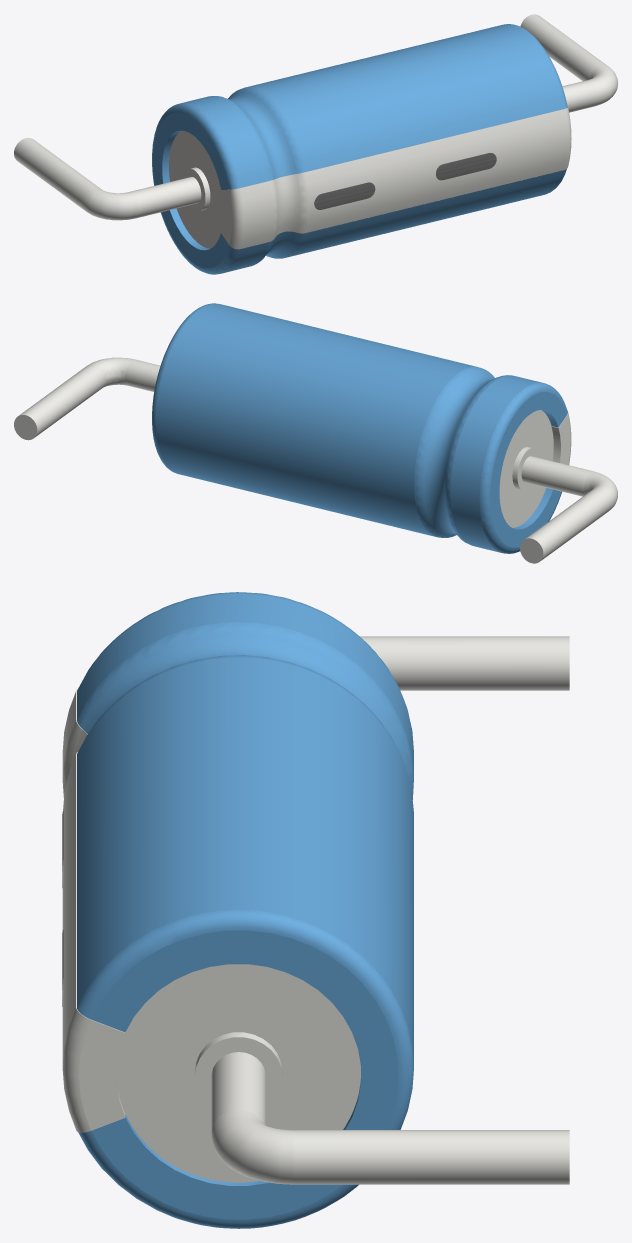
File: CP_Axial_L10.0mm_D4.5mm_P15.00mm_Horizontal.glb
The picture shows the model from 3 angles, top to bottom: view 1: azimuth 30°, elevation 25°; view 2: azimuth 150°, elevation 25°; view 3: azimuth 270°, elevation 25°; orthographic projection. The views are drawn at different scales.
Parts seen in each view (by area): view 1: Shape_IndexedFaceSet.009, Shape_IndexedFaceSet.049, Shape_IndexedFaceSet, Shape_IndexedFaceSet.064, Shape_IndexedFaceSet.006, Shape_IndexedFaceSet.053, Shape_IndexedFaceSet.005, Shape_IndexedFaceSet.051, Shape_IndexedFaceSet.055, Shape_IndexedFaceSet.003, Shape_IndexedFaceSet.035, Shape_IndexedFaceSet.052 (+11 smaller); view 2: Shape_IndexedFaceSet.009, Shape_IndexedFaceSet, Shape_IndexedFaceSet.005, Shape_IndexedFaceSet.064, Shape_IndexedFaceSet.006, Shape_IndexedFaceSet.053, Shape_IndexedFaceSet.003, Shape_IndexedFaceSet.055, Shape_IndexedFaceSet.051, Shape_IndexedFaceSet.007, Shape_IndexedFaceSet.002, Shape_IndexedFaceSet.011 (+6 smaller); view 3: Shape_IndexedFaceSet.009, Shape_IndexedFaceSet.059, Shape_IndexedFaceSet.012, Shape_IndexedFaceSet.055, Shape_IndexedFaceSet.011, Shape_IndexedFaceSet.051, Shape_IndexedFaceSet, Shape_IndexedFaceSet.005, Shape_IndexedFaceSet.002, Shape_IndexedFaceSet.054, Shape_IndexedFaceSet.046, Shape_IndexedFaceSet.049 (+4 smaller).
Boxes of the visible parts, x1,y1,x2,y2 form: Shape_IndexedFaceSet.009: (245, 24, 563, 257); Shape_IndexedFaceSet.049: (305, 109, 567, 232); Shape_IndexedFaceSet: (180, 96, 269, 273); Shape_IndexedFaceSet.064: (169, 130, 222, 248); Shape_IndexedFaceSet.006: (153, 112, 229, 268); Shape_IndexedFaceSet.053: (130, 80, 597, 218); Shape_IndexedFaceSet.005: (228, 92, 296, 257); Shape_IndexedFaceSet.051: (14, 138, 101, 211); Shape_IndexedFaceSet.055: (520, 14, 607, 80); Shape_IndexedFaceSet.003: (152, 103, 239, 274); Shape_IndexedFaceSet.035: (240, 181, 272, 248); Shape_IndexedFaceSet.052: (83, 188, 138, 220); Shape_IndexedFaceSet.009: (155, 303, 475, 536); Shape_IndexedFaceSet: (450, 375, 542, 552); Shape_IndexedFaceSet.005: (422, 371, 494, 536); Shape_IndexedFaceSet.064: (499, 410, 553, 527); Shape_IndexedFaceSet.006: (490, 392, 566, 547); Shape_IndexedFaceSet.053: (125, 359, 592, 496); Shape_IndexedFaceSet.003: (479, 382, 567, 553); Shape_IndexedFaceSet.055: (19, 364, 106, 437); Shape_IndexedFaceSet.051: (525, 487, 612, 560); Shape_IndexedFaceSet.007: (414, 366, 494, 537); Shape_IndexedFaceSet.002: (445, 375, 511, 543); Shape_IndexedFaceSet.011: (152, 303, 215, 472); Shape_IndexedFaceSet.009: (77, 657, 413, 1065); Shape_IndexedFaceSet.059: (116, 964, 360, 1182); Shape_IndexedFaceSet.012: (91, 930, 398, 1219); Shape_IndexedFaceSet.055: (293, 1130, 569, 1184); Shape_IndexedFaceSet.011: (77, 909, 413, 1228); Shape_IndexedFaceSet.051: (360, 636, 569, 690); Shape_IndexedFaceSet: (77, 593, 413, 775); Shape_IndexedFaceSet.005: (83, 634, 406, 768); Shape_IndexedFaceSet.002: (77, 622, 413, 799); Shape_IndexedFaceSet.054: (211, 1109, 293, 1184); Shape_IndexedFaceSet.046: (79, 1020, 125, 1130); Shape_IndexedFaceSet.049: (62, 756, 75, 1065).
Bounding box in the file's own units: 6.18 × 1.77 × 2.57.
